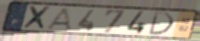4: (125, 10, 147, 35), (76, 9, 96, 33)
7: (103, 8, 127, 34)
A: (44, 7, 74, 32)
D: (147, 11, 176, 37)
X: (22, 5, 52, 31)
